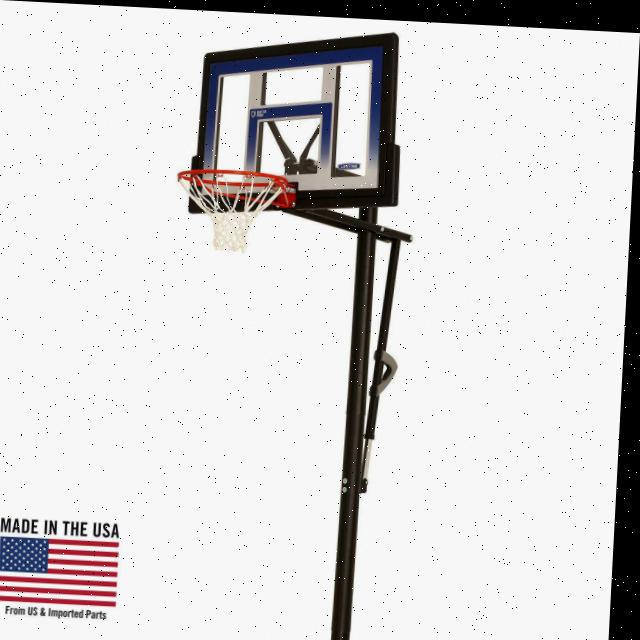hoop: (173, 167, 288, 255)
